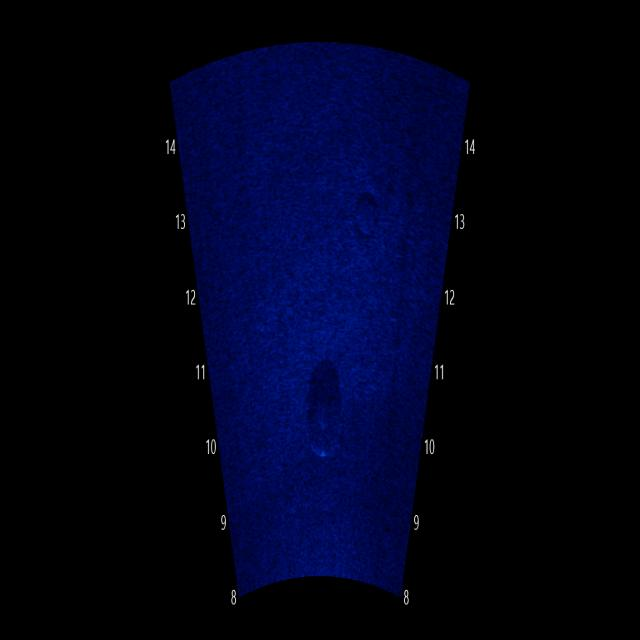circle: (298, 377, 353, 476)
